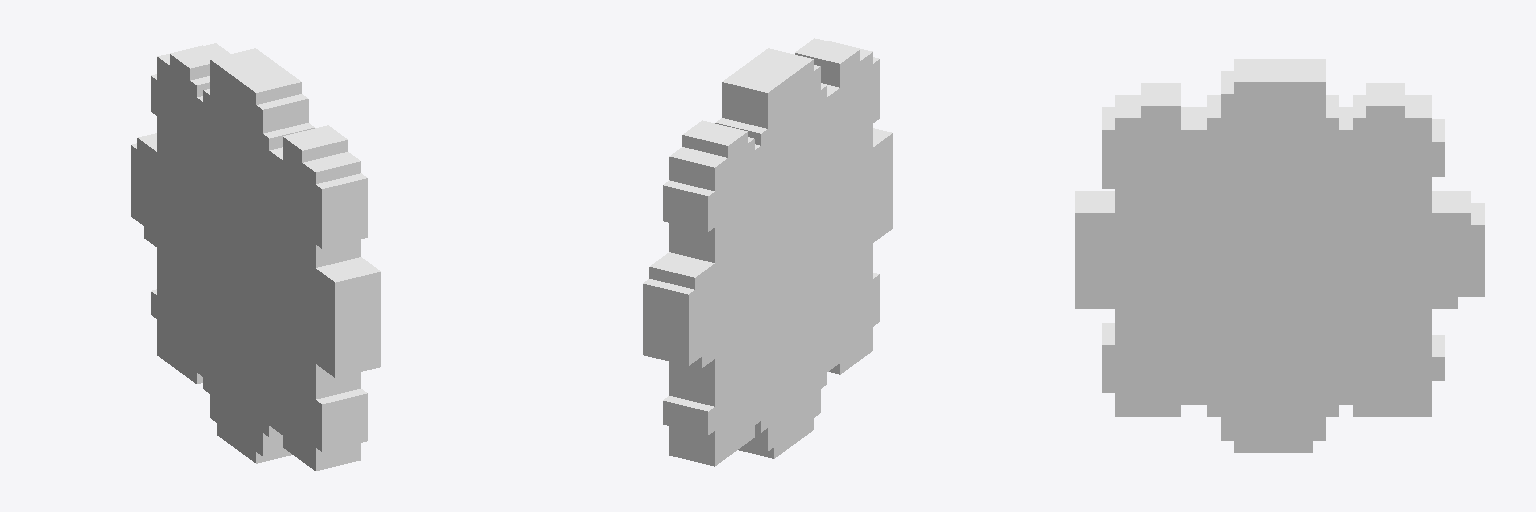
Rendered from lvl1-22.obj.
3 views of the same model, side by side, from view 1: azimuth 30°, elevation 25°; view 2: azimuth 150°, elevation 25°; view 3: azimuth 270°, elevation 25° (orthographic).
Visible parts, largest first — view 1: object 1; view 2: object 1; view 3: object 1.
Boxes of the visible parts, box(x1,y1,x2,y2) form: object 1: box(131, 43, 380, 470); object 1: box(643, 38, 892, 466); object 1: box(1075, 59, 1484, 452).
Size of the model in its own units: 0.4 by 3.1 by 3.1.